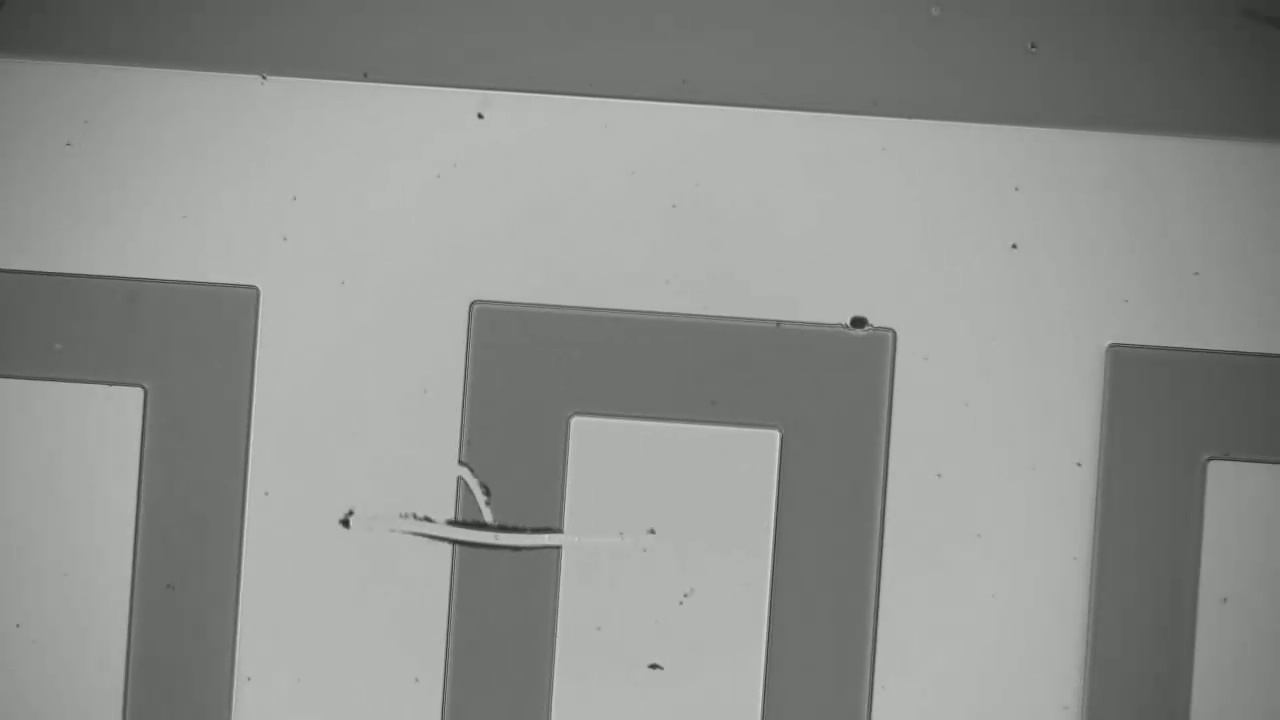Short_circuit: (427, 494, 583, 568)
